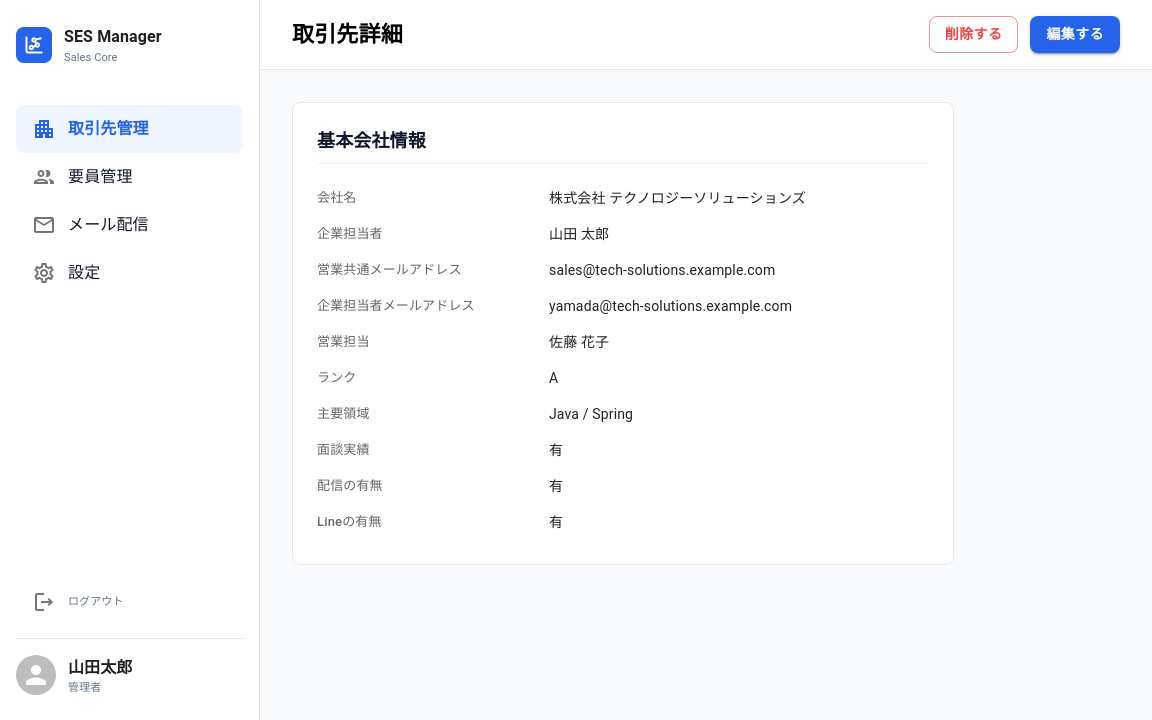
Test: CompanyDetailPage › 削除する押下で確認モーダルが表示される
Click the button "削除する": (974, 34) x1=929 y1=16 x2=1018 y2=52
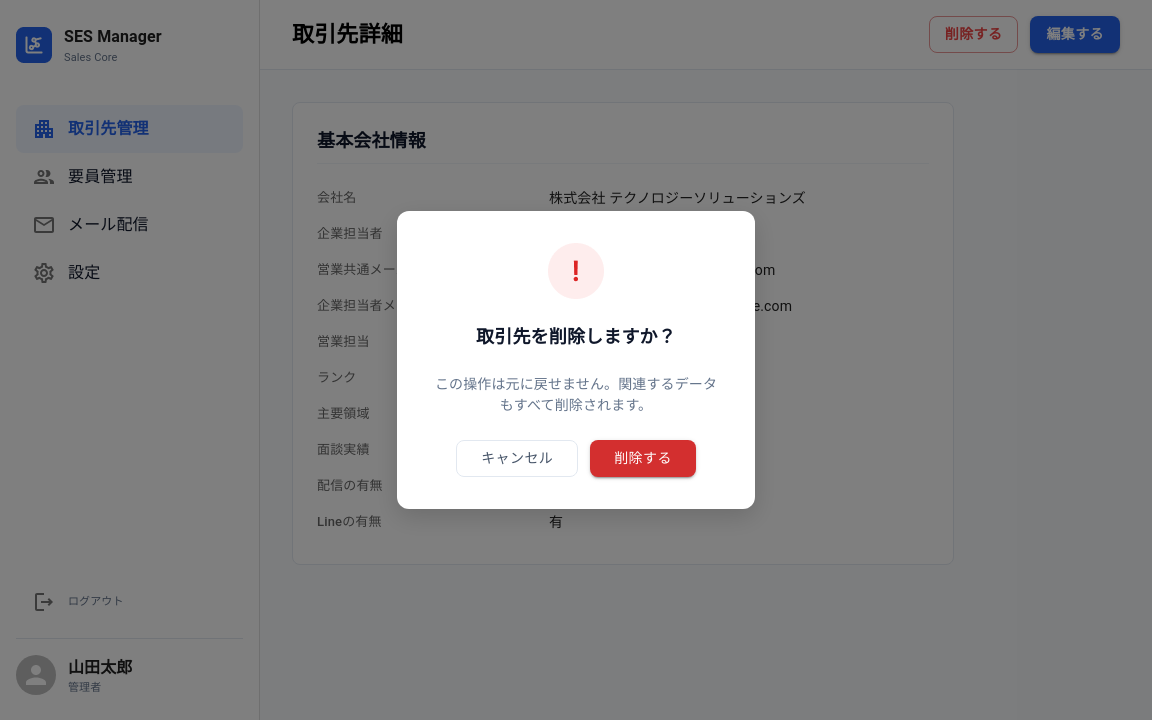
Result: the text "取引先を削除しますか？" is shown at x1=476 y1=323 x2=676 y2=350
Result: the text "この操作は元に戻せません。関連するデータもすべて削除されます。" is shown at x1=429 y1=374 x2=723 y2=416
